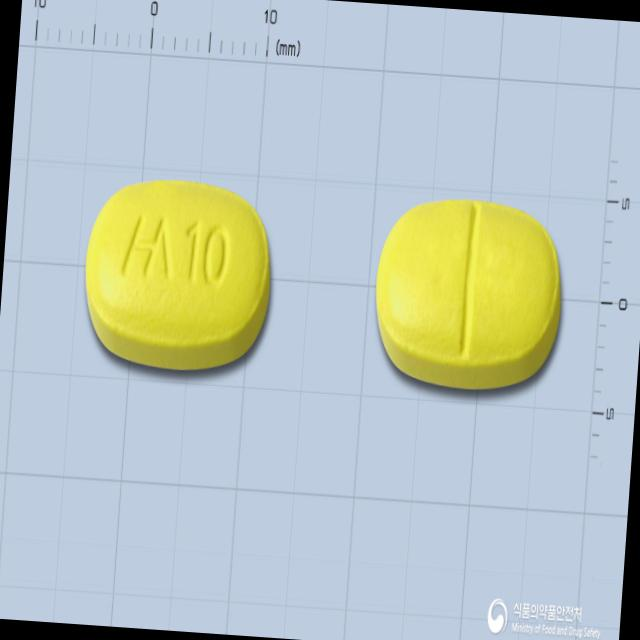Clarid - 500mg: (74, 172, 281, 386)
